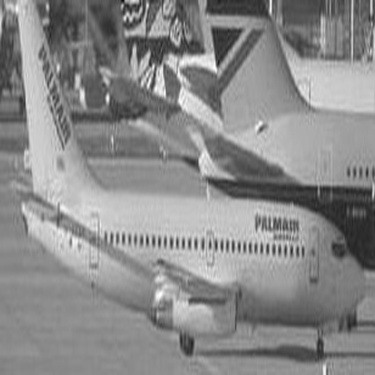airplane: (2, 1, 370, 372), (59, 1, 368, 238), (83, 1, 371, 128)
